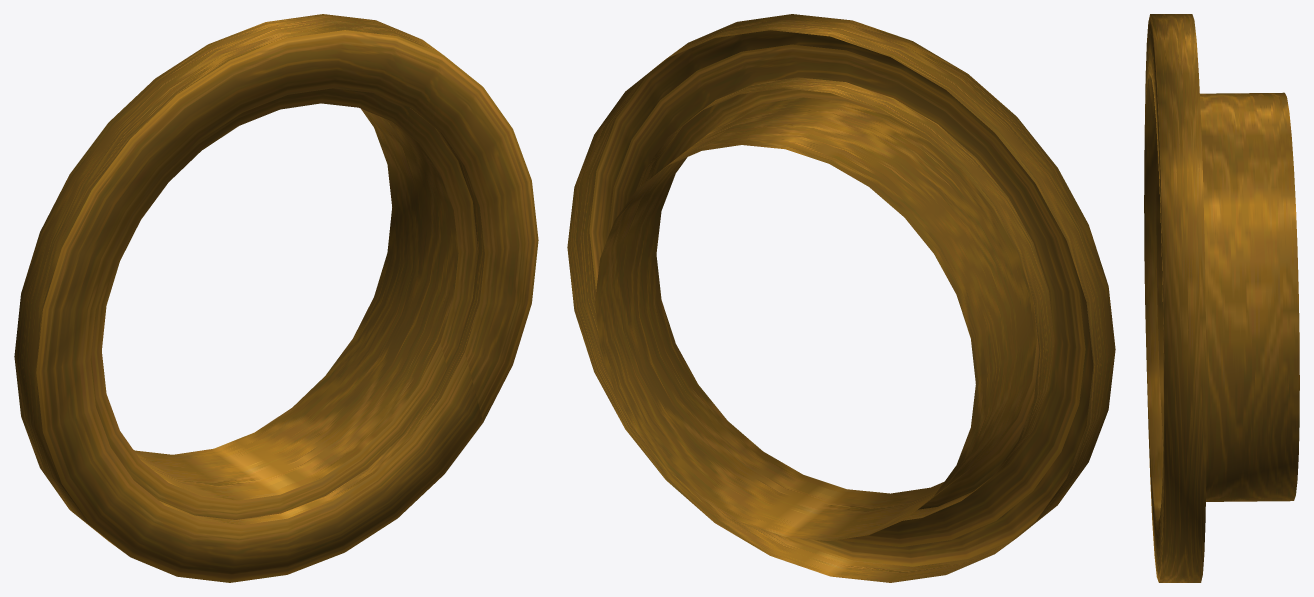
File: HTOWN01_DOORFRAME.fbx
3 views of the same model, side by side, from view 1: azimuth 30°, elevation 25°; view 2: azimuth 150°, elevation 25°; view 3: azimuth 270°, elevation 25° (orthographic). The views are drawn at different scales.
Visible parts, largest first — view 1: HTOWN01_DOORFRAME; view 2: HTOWN01_DOORFRAME; view 3: HTOWN01_DOORFRAME.
Boxes of the visible parts, <box> form: HTOWN01_DOORFRAME: <box>14,14,538,582</box>; HTOWN01_DOORFRAME: <box>567,14,1115,582</box>; HTOWN01_DOORFRAME: <box>1144,14,1299,582</box>.
Bounding box in the file's own units: 19443 × 19454 × 5325.
1 material, 1 textured.
